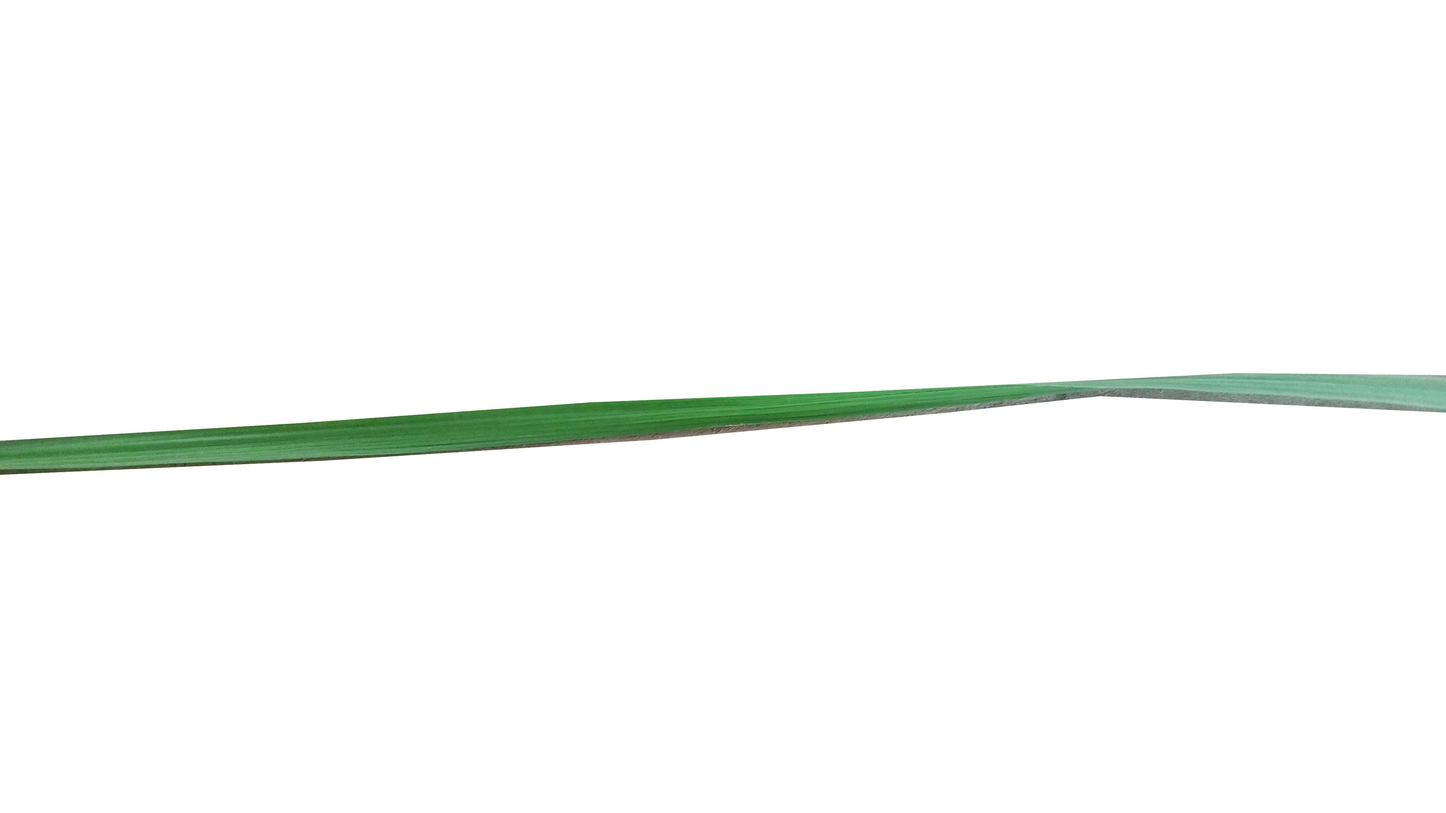Healthy: (0, 379, 1078, 476)
